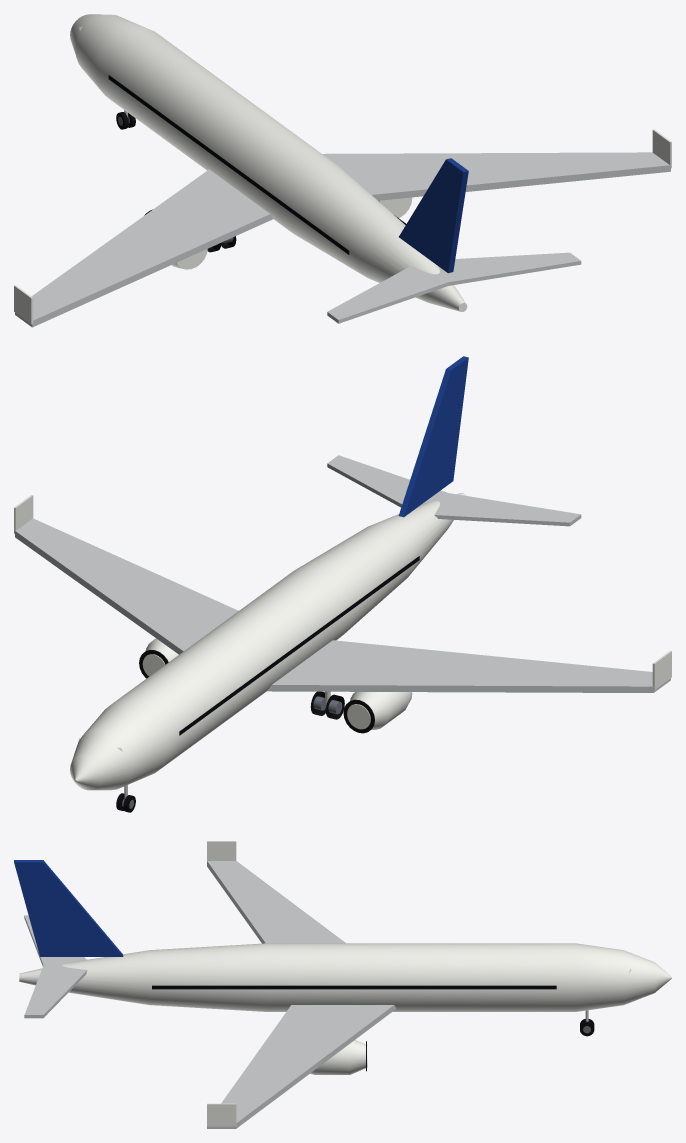
Rendered from airport.aircraft.narrow_body.glb.
The picture shows the model from 3 angles, top to bottom: view 1: azimuth 30°, elevation 25°; view 2: azimuth 150°, elevation 25°; view 3: azimuth 270°, elevation 25°; orthographic projection. The views are drawn at different scales.
Visible parts, largest first — view 1: fuselage__paint_white, wings__aluminium, wings__plastic_blue, fuselage__screen, wings__paint_white, engines__paint_white; view 2: fuselage__paint_white, wings__aluminium, wings__plastic_blue, engines__paint_white, fuselage__screen, wings__paint_white, gear__rubber; view 3: fuselage__paint_white, wings__aluminium, wings__plastic_blue, fuselage__screen, wings__paint_white, engines__paint_white.
Boxes of the visible parts, bbox=[...] form: fuselage__paint_white: bbox=[70, 14, 467, 311]; wings__aluminium: bbox=[15, 152, 670, 327]; wings__plastic_blue: bbox=[399, 158, 468, 273]; fuselage__screen: bbox=[108, 75, 406, 254]; wings__paint_white: bbox=[14, 129, 671, 324]; engines__paint_white: bbox=[172, 197, 412, 269]; fuselage__paint_white: bbox=[70, 492, 466, 790]; wings__aluminium: bbox=[15, 455, 670, 692]; wings__plastic_blue: bbox=[398, 356, 468, 517]; engines__paint_white: bbox=[142, 638, 412, 729]; fuselage__screen: bbox=[179, 556, 419, 735]; wings__paint_white: bbox=[14, 495, 671, 689]; gear__rubber: bbox=[116, 691, 344, 812]; fuselage__paint_white: bbox=[19, 943, 671, 1011]; wings__aluminium: bbox=[24, 861, 396, 1128]; wings__plastic_blue: bbox=[14, 860, 123, 956]; fuselage__screen: bbox=[152, 985, 556, 989]; wings__paint_white: bbox=[207, 841, 236, 1126]; engines__paint_white: bbox=[310, 1040, 367, 1074].
Bounding box in the file's own units: 35.9 × 10.98 × 37.9.
